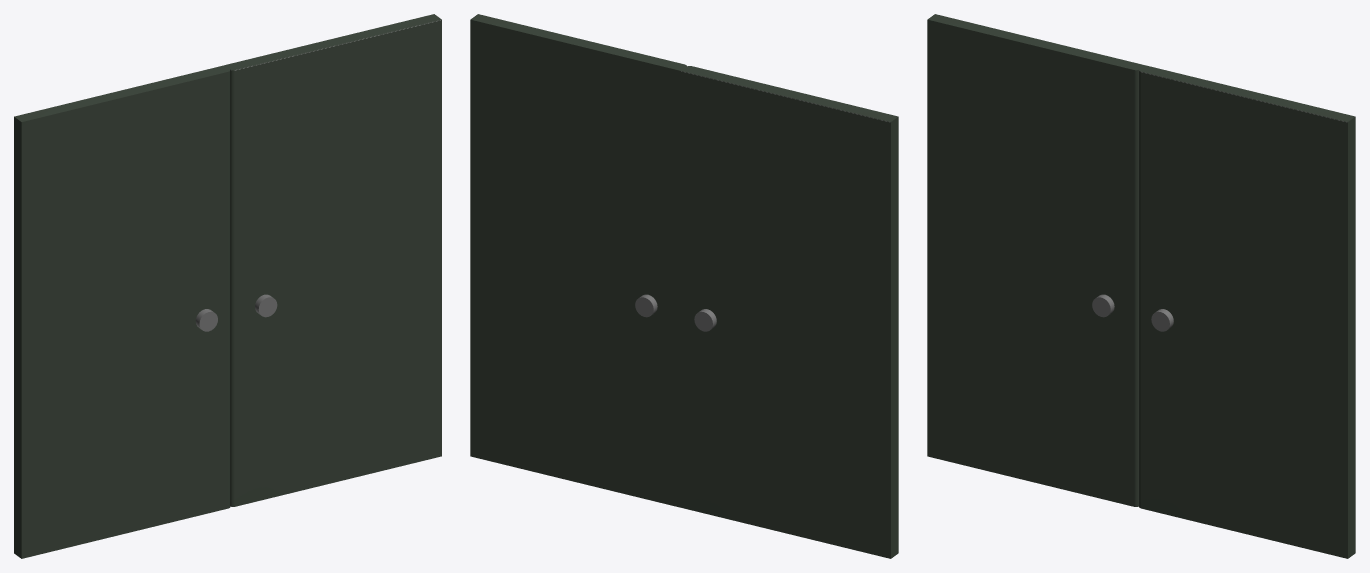
The model's file is CafeteriaDoor (2).fbx.
The picture shows the model from 3 angles, left to right: view 1: azimuth 30°, elevation 25°; view 2: azimuth 150°, elevation 25°; view 3: azimuth 330°, elevation 25°; orthographic projection.
Parts seen in each view (by area): view 1: polySurface4, polySurface5; view 2: polySurface4, polySurface5; view 3: polySurface5, polySurface4.
Part boxes in pixels (box(x1,y1,x2,y2)): polySurface4: box(14, 65, 230, 558); polySurface5: box(224, 14, 441, 506); polySurface4: box(680, 66, 898, 558); polySurface5: box(470, 14, 686, 507); polySurface5: box(1139, 65, 1355, 558); polySurface4: box(927, 14, 1144, 506).
Size of the model in its own units: 8.7 by 8.64 by 0.7474.
Materials: 2 (1 with a texture image).
